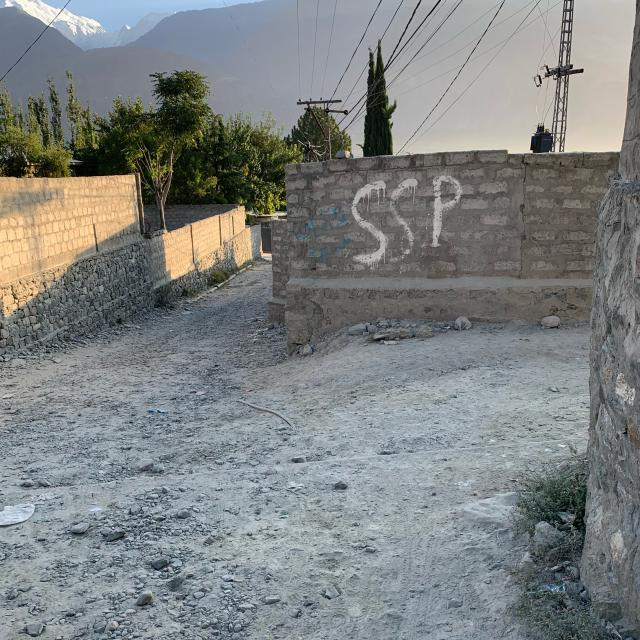Right-Turn: (147, 314, 578, 624)
straight: (48, 257, 269, 537)
